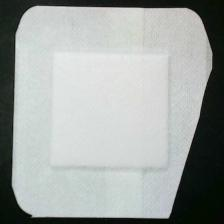Cut: (10, 5, 215, 224)
